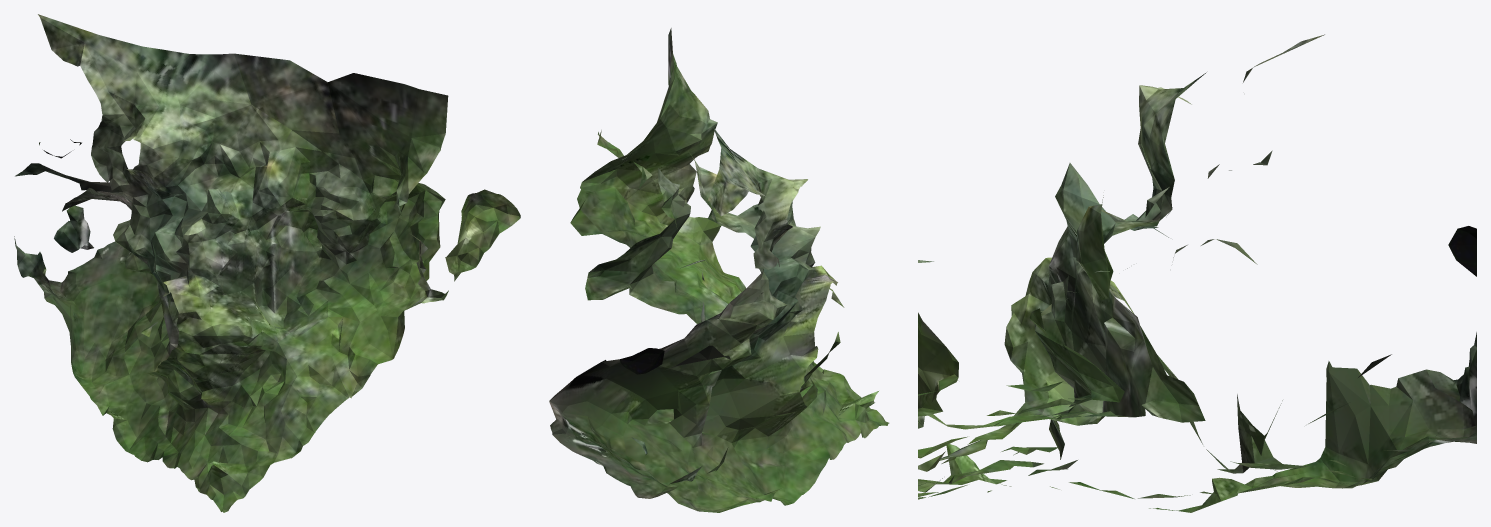
3 renders of one model, left to right at view 1: azimuth 30°, elevation 25°; view 2: azimuth 150°, elevation 25°; view 3: azimuth 270°, elevation 25°, orthographic. The views are drawn at different scales.
Bounding box in the file's own units: 21.36 × 25.64 × 26.11.
4 materials, 4 textured.
